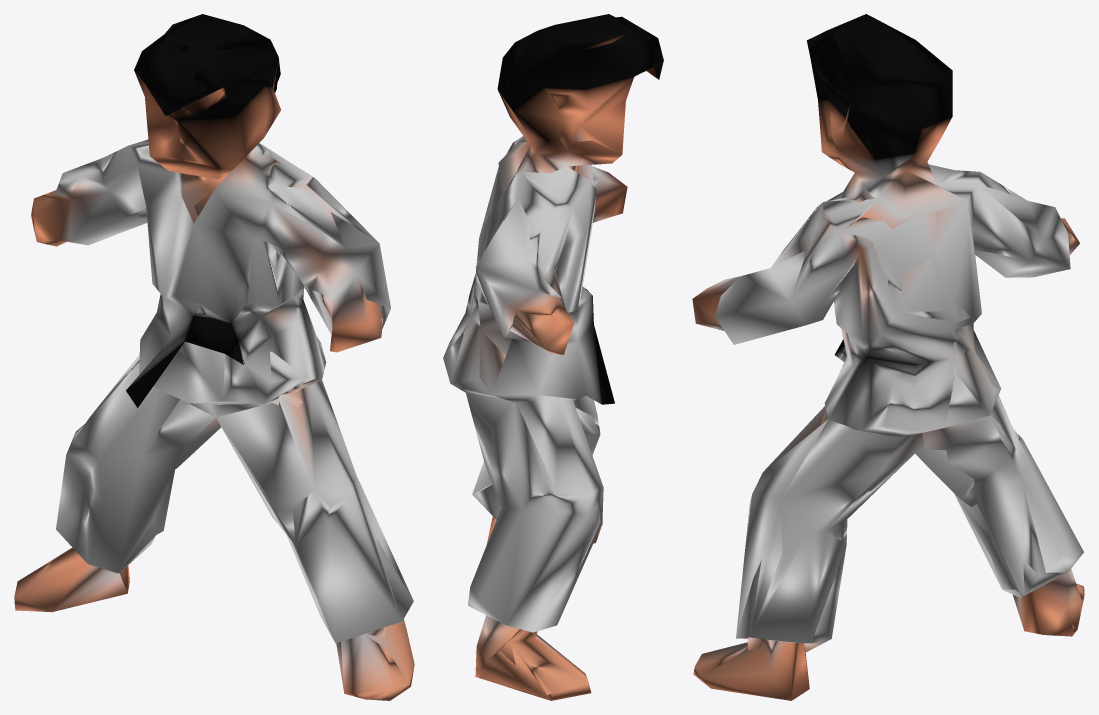
File: gen3d-karate-fighter-lod1.glb
3 renders of one model, left to right at view 1: azimuth 30°, elevation 25°; view 2: azimuth 150°, elevation 25°; view 3: azimuth 270°, elevation 25°, orthographic. The views are drawn at different scales.
Parts seen in each view (by area): view 1: part_0; view 2: part_0; view 3: part_0.
Boxes of the visible parts, x1,y1,x2,y2 form: part_0: (14, 14, 414, 700); part_0: (443, 14, 663, 700); part_0: (692, 14, 1084, 700).
Bounding box in the file's own units: 0.4165 × 0.9954 × 0.5903.
